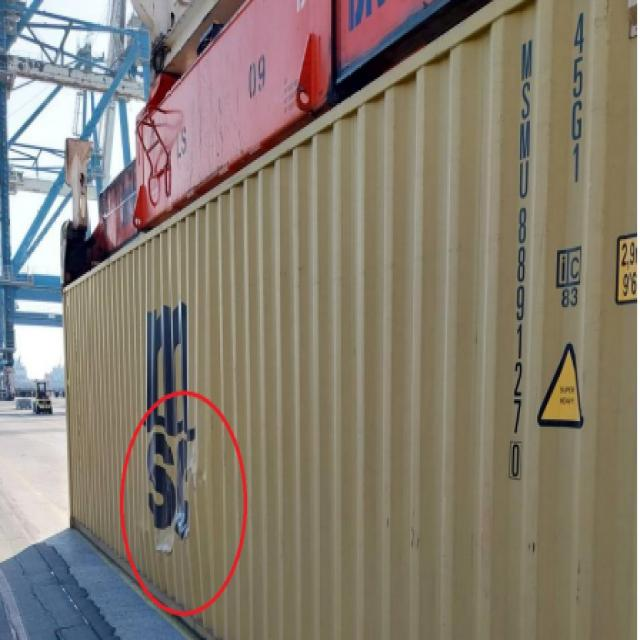dent: (148, 435, 216, 561)
